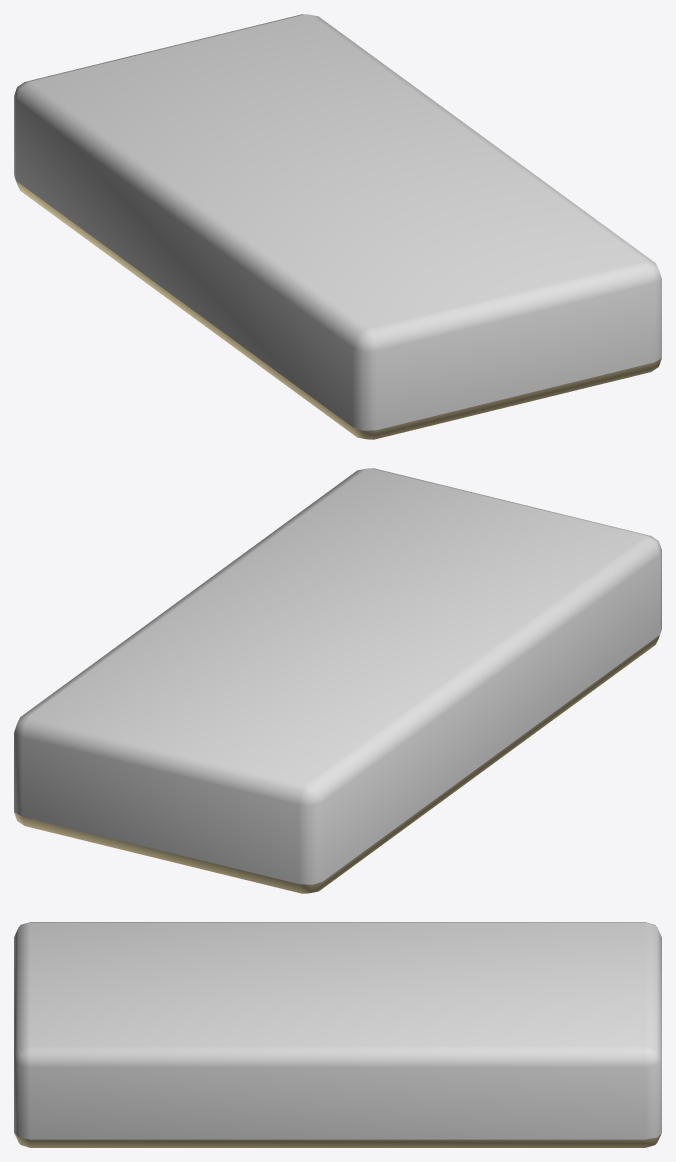
The picture shows the model from 3 angles, top to bottom: view 1: azimuth 30°, elevation 25°; view 2: azimuth 150°, elevation 25°; view 3: azimuth 270°, elevation 25°; orthographic projection. The views are drawn at different scales.
Visible parts, largest first — view 1: Cube.001, Cube.004; view 2: Cube.001, Cube.004; view 3: Cube.001, Cube.004.
Part boxes in pixels (x1,y1,x2,y2): Cube.001: (14,14,661,430); Cube.004: (16,181,661,439); Cube.001: (14,468,661,884); Cube.004: (14,635,659,893); Cube.001: (14,922,661,1139); Cube.004: (14,1133,661,1147).
Bounding box in the file's own units: 200 × 69.11 × 400.
